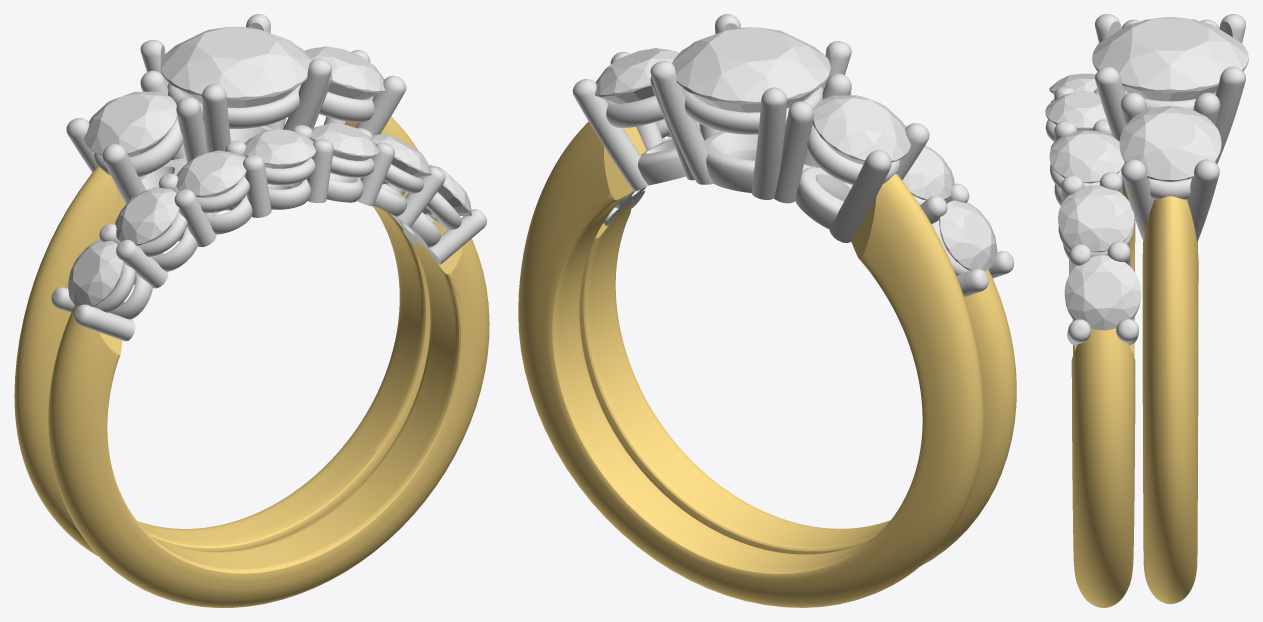
Rendered from JoshBOTHengwb_blender.glb.
3 renders of one model, left to right at view 1: azimuth 30°, elevation 25°; view 2: azimuth 150°, elevation 25°; view 3: azimuth 270°, elevation 25°, orthographic. The views are drawn at different scales.
Parts seen in each view (by area): view 1: Josh YG BOTH for 3d model, Josh PT BOTH for 3d model, Josh dia BOTH for 3d model.008, Josh dia BOTH for 3d model.007, Josh dia BOTH for 3d model.006, Josh dia BOTH for 3d model.005, Josh dia BOTH for 3d model.009, Josh dia BOTH for 3d model.004, Josh dia BOTH for 3d model.003, Josh dia BOTH for 3d model.002, Josh dia BOTH for 3d model.001, Josh dia BOTH for 3d model; view 2: Josh YG BOTH for 3d model, Josh PT BOTH for 3d model, Josh dia BOTH for 3d model.008, Josh dia BOTH for 3d model.007, Josh dia BOTH for 3d model.006, Josh dia BOTH for 3d model.009, Josh dia BOTH for 3d model.005; view 3: Josh YG BOTH for 3d model, Josh PT BOTH for 3d model, Josh dia BOTH for 3d model.008, Josh dia BOTH for 3d model.009, Josh dia BOTH for 3d model, Josh dia BOTH for 3d model.001, Josh dia BOTH for 3d model.002, Josh dia BOTH for 3d model.003, Josh dia BOTH for 3d model.004.
Boxes of the visible parts, x1,y1,x2,y2 form: Josh YG BOTH for 3d model: (14, 116, 489, 607); Josh PT BOTH for 3d model: (51, 14, 486, 341); Josh dia BOTH for 3d model.008: (160, 26, 311, 107); Josh dia BOTH for 3d model.007: (84, 91, 177, 157); Josh dia BOTH for 3d model.006: (67, 240, 123, 306); Josh dia BOTH for 3d model.005: (115, 187, 179, 245); Josh dia BOTH for 3d model.009: (304, 46, 385, 99); Josh dia BOTH for 3d model.004: (176, 150, 246, 197); Josh dia BOTH for 3d model.003: (243, 129, 316, 168); Josh dia BOTH for 3d model.002: (310, 123, 379, 160); Josh dia BOTH for 3d model.001: (372, 134, 431, 184); Josh dia BOTH for 3d model: (422, 165, 471, 216); Josh YG BOTH for 3d model: (518, 121, 1016, 607); Josh PT BOTH for 3d model: (572, 14, 1013, 296); Josh dia BOTH for 3d model.008: (672, 27, 830, 112); Josh dia BOTH for 3d model.007: (812, 95, 910, 164); Josh dia BOTH for 3d model.006: (939, 200, 997, 271); Josh dia BOTH for 3d model.009: (594, 48, 679, 103); Josh dia BOTH for 3d model.005: (902, 145, 954, 200); Josh YG BOTH for 3d model: (1071, 187, 1198, 607); Josh PT BOTH for 3d model: (1045, 14, 1245, 346); Josh dia BOTH for 3d model.008: (1092, 17, 1248, 101); Josh dia BOTH for 3d model.009: (1119, 106, 1221, 181); Josh dia BOTH for 3d model: (1064, 255, 1140, 330); Josh dia BOTH for 3d model.001: (1058, 185, 1134, 252); Josh dia BOTH for 3d model.002: (1049, 130, 1124, 183); Josh dia BOTH for 3d model.003: (1045, 91, 1106, 131); Josh dia BOTH for 3d model.004: (1049, 73, 1097, 94).
Size of the model in its own units: 20.5 by 23.77 by 7.97.
